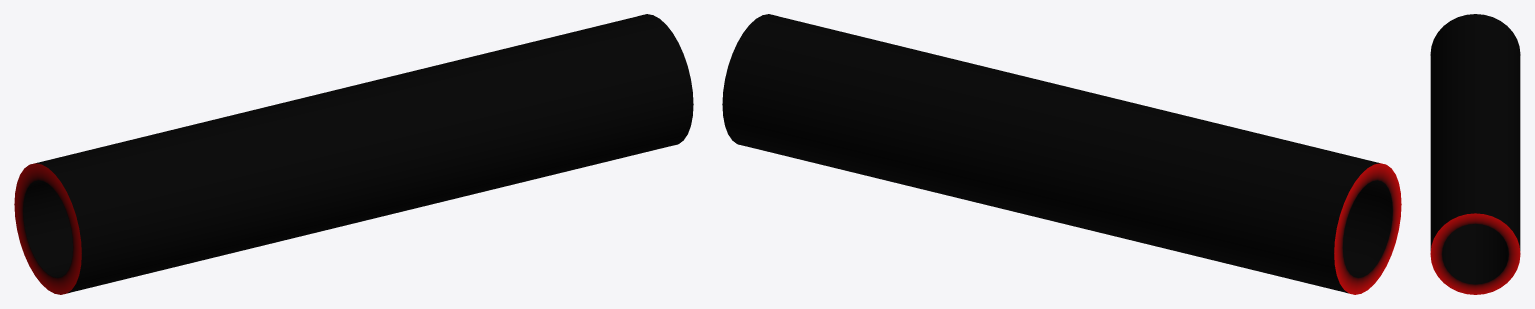
The model's file is Dungeon_Pipe_2m.FBX.
3 renders of one model, left to right at view 1: azimuth 30°, elevation 25°; view 2: azimuth 150°, elevation 25°; view 3: azimuth 270°, elevation 25°, orthographic. The views are drawn at different scales.
Visible parts, largest first — view 1: pipe_2m; view 2: pipe_2m; view 3: pipe_2m.
Boxes of the visible parts, left/top/right/bottom form: pipe_2m: left=14, top=14, right=693, bottom=294; pipe_2m: left=722, top=14, right=1401, bottom=294; pipe_2m: left=1430, top=14, right=1520, bottom=294.
Size of the model in its own units: 78.74 by 15.03 by 15.03.
